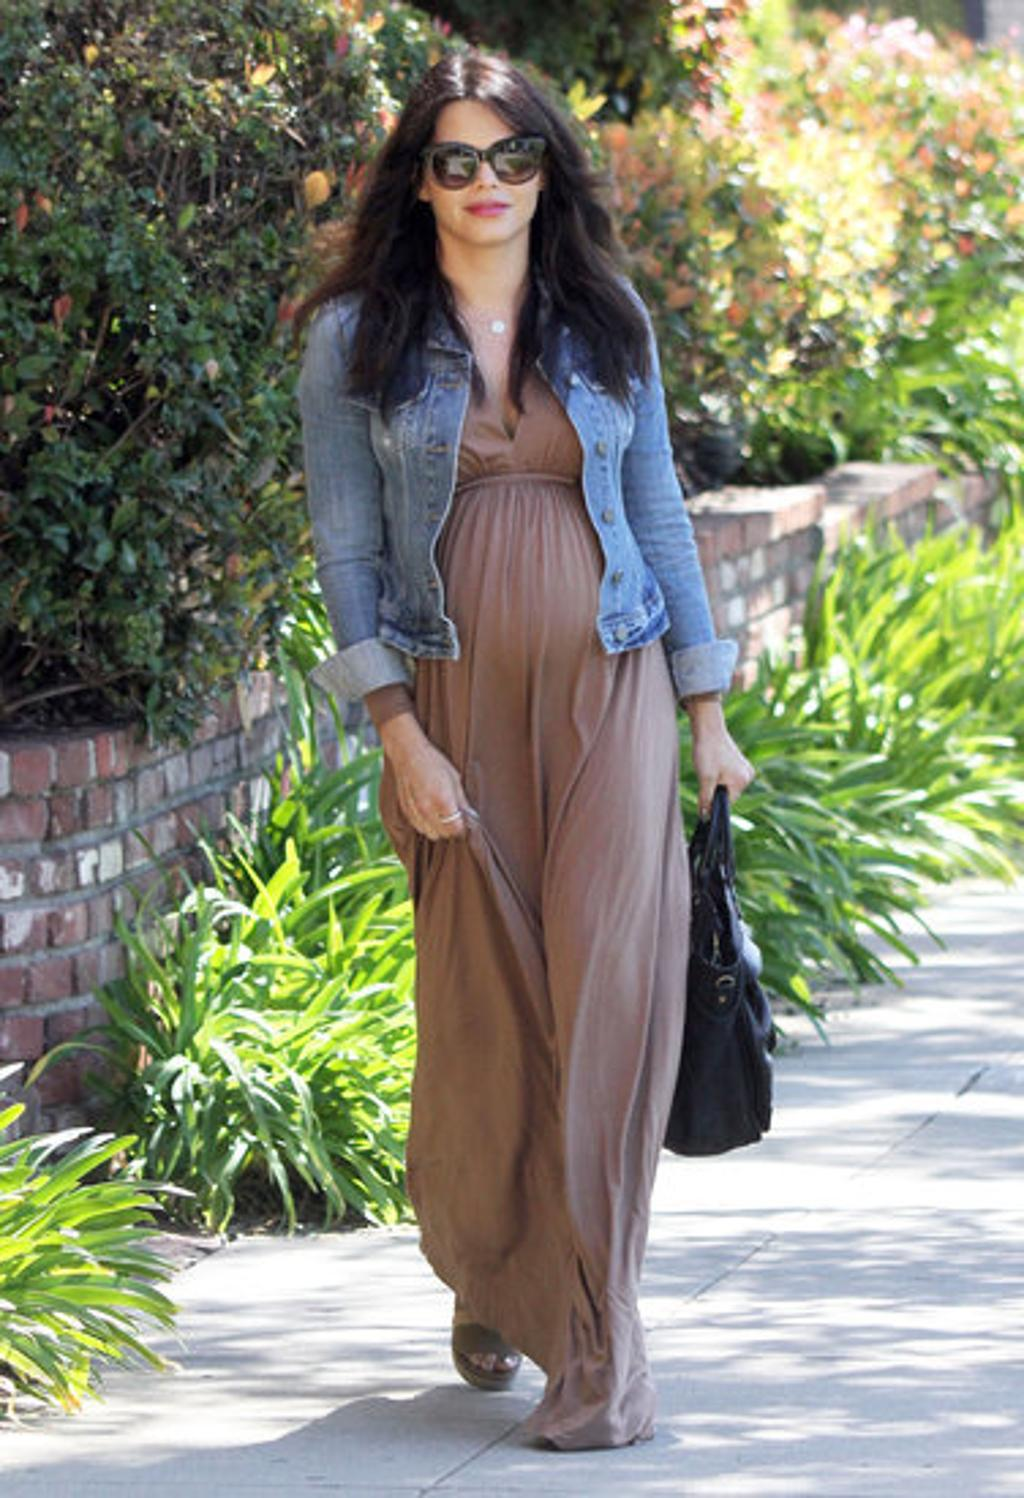face: (431, 95, 539, 247)
